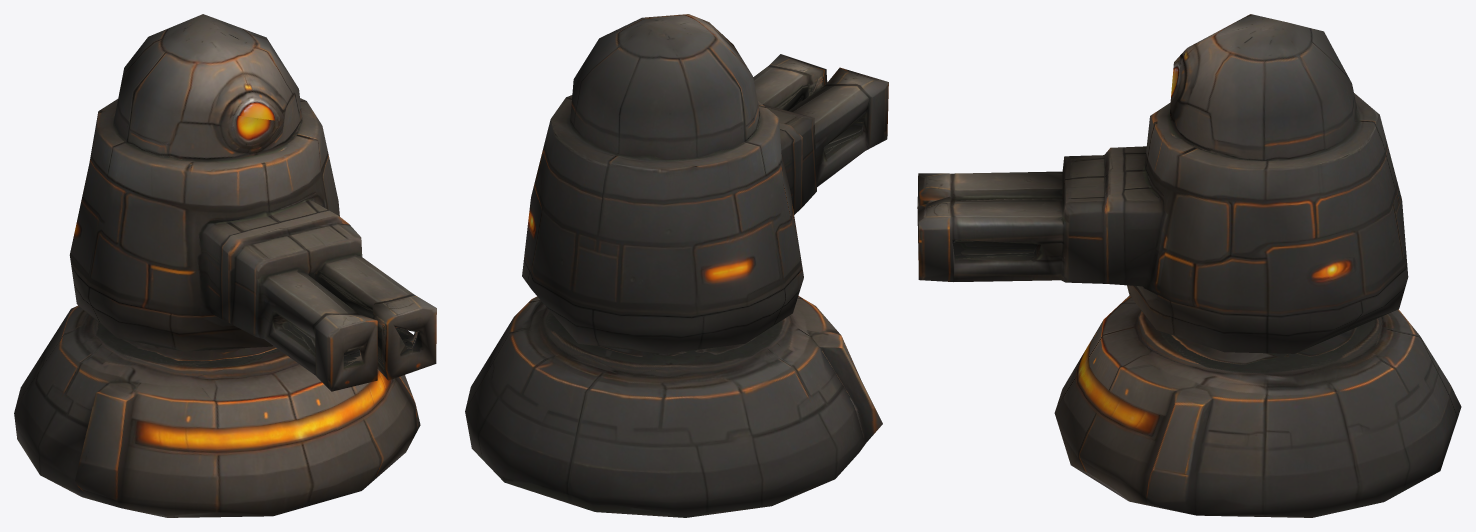
Rendered from turret.glb.
3 renders of one model, left to right at view 1: azimuth 30°, elevation 25°; view 2: azimuth 150°, elevation 25°; view 3: azimuth 270°, elevation 25°, orthographic.
Visible parts, largest first — view 1: Mesh1.0; view 2: Mesh1.0; view 3: Mesh1.0.
Part boxes in pixels (bbox=[...]): Mesh1.0: bbox=[14, 14, 436, 517]; Mesh1.0: bbox=[465, 14, 888, 517]; Mesh1.0: bbox=[917, 14, 1461, 517].
Size of the model in its own units: 1.51 by 1.73 by 2.02.
1 material, 1 textured.
